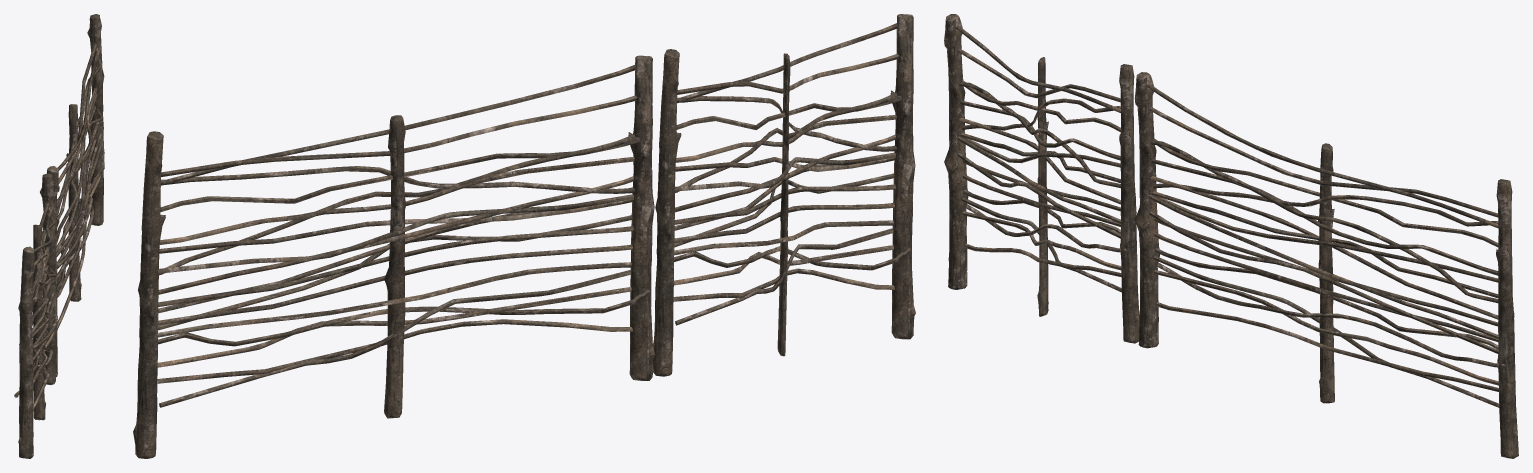
The model's file is SM_Fence_02a_Splines_16.fbx.
The picture shows the model from 3 angles, left to right: view 1: azimuth 30°, elevation 25°; view 2: azimuth 150°, elevation 25°; view 3: azimuth 270°, elevation 25°; orthographic projection. The views are drawn at different scales.
Visible parts, largest first — view 1: SM_Fence_02a_Splines_16_LOD0; view 2: SM_Fence_02a_Splines_16_LOD0; view 3: SM_Fence_02a_Splines_16_LOD0.
Boxes of the visible parts, x1,y1,x2,y2 form: SM_Fence_02a_Splines_16_LOD0: (14,14,104,458); SM_Fence_02a_Splines_16_LOD0: (133,14,915,458); SM_Fence_02a_Splines_16_LOD0: (944,14,1518,458).
Bounding box in the file's own units: 197 × 254 × 139.
